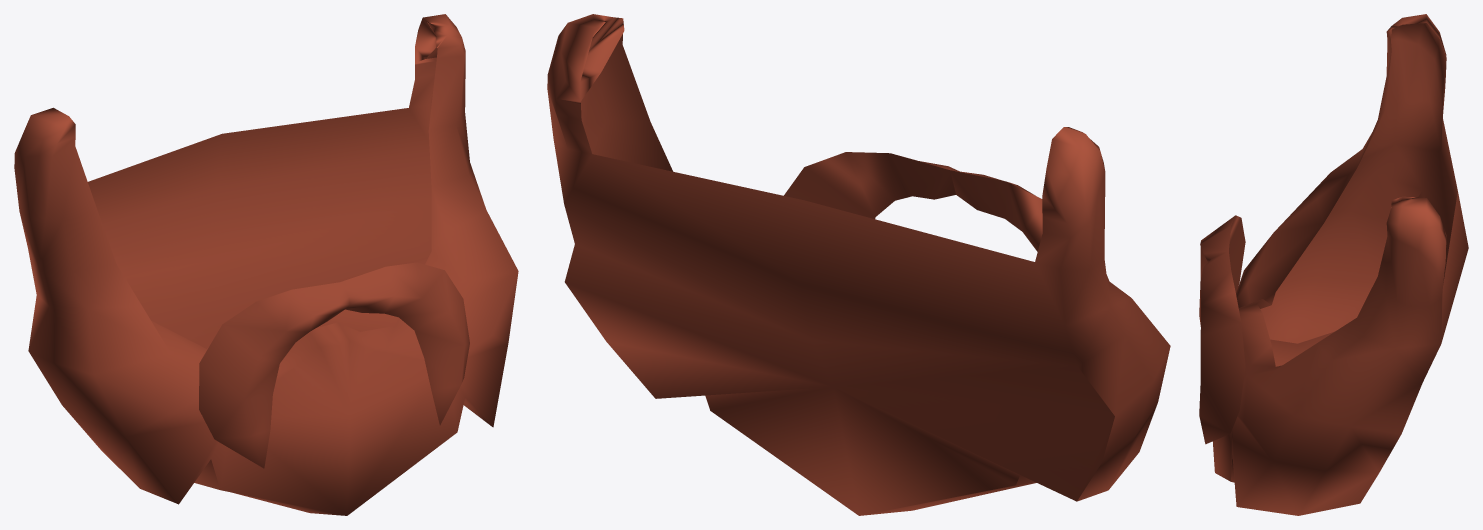
The model's file is Beard_Brown_13.fbx.
3 renders of one model, left to right at view 1: azimuth 30°, elevation 25°; view 2: azimuth 150°, elevation 25°; view 3: azimuth 270°, elevation 25°, orthographic. The views are drawn at different scales.
Parts seen in each view (by area): view 1: Beard_Brown_13; view 2: Beard_Brown_13; view 3: Beard_Brown_13.
Boxes of the visible parts, x1,y1,x2,y2 form: Beard_Brown_13: [14, 14, 518, 515]; Beard_Brown_13: [547, 14, 1170, 515]; Beard_Brown_13: [1199, 14, 1468, 515].
Bounding box in the file's own units: 54.32 × 45.47 × 28.75.
